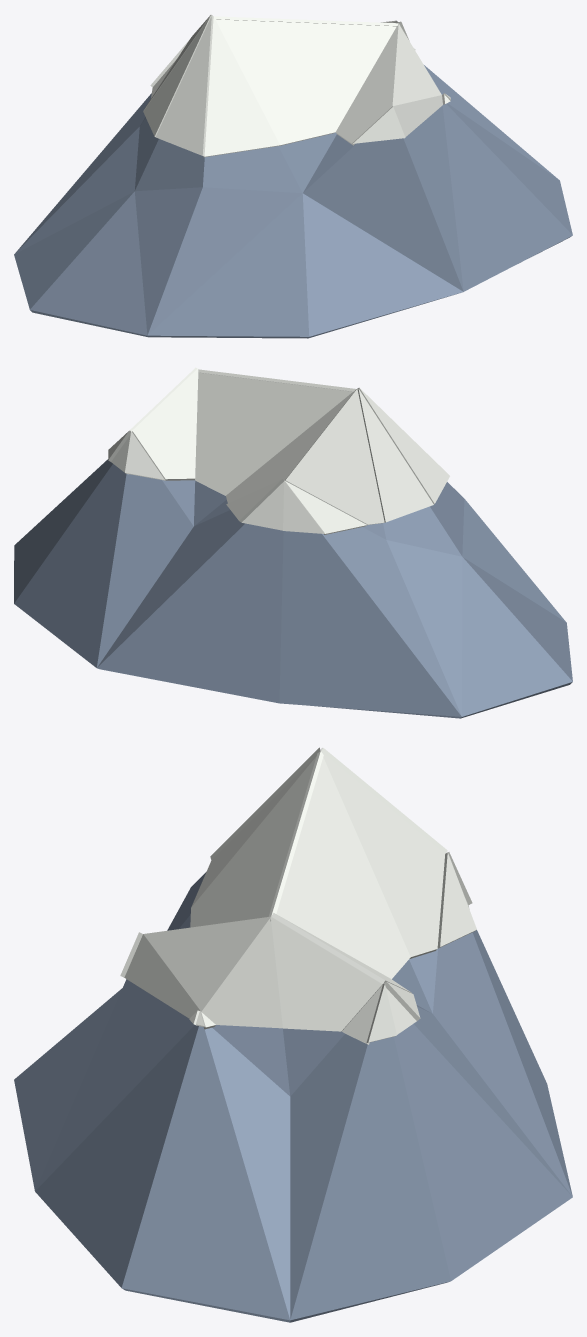
3 renders of one model, top to bottom at view 1: azimuth 30°, elevation 25°; view 2: azimuth 150°, elevation 25°; view 3: azimuth 270°, elevation 25°, orthographic. The views are drawn at different scales.
Visible parts, largest first — view 1: Hill_Snow_A_Geometry; view 2: Hill_Snow_A_Geometry; view 3: Hill_Snow_A_Geometry.
Part boxes in pixels (bbox=[...]): Hill_Snow_A_Geometry: bbox=[14, 15, 572, 338]; Hill_Snow_A_Geometry: bbox=[14, 367, 572, 718]; Hill_Snow_A_Geometry: bbox=[14, 747, 572, 1322].
Bounding box in the file's own units: 2.28 × 1 × 1.47.
